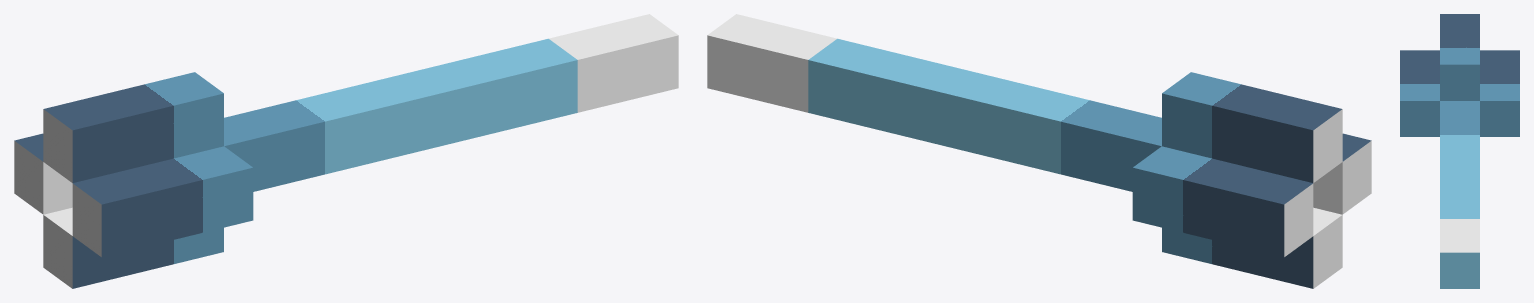
File: Pfeil.fbx
3 views of the same model, side by side, from view 1: azimuth 30°, elevation 25°; view 2: azimuth 150°, elevation 25°; view 3: azimuth 270°, elevation 25° (orthographic). The views are drawn at different scales.
Parts seen in each view (by area): view 1: cube, cube_4, cube_1, cube_2, cube_3, cube_5; view 2: cube, cube_5, cube_1, cube_2, cube_3, cube_4; view 3: cube, cube_1, cube_4, cube_5, cube_2.
Part boxes in pixels (x1,y1,x2,y2): cube: (224, 38, 577, 191); cube_4: (72, 146, 253, 257); cube_1: (43, 72, 223, 183); cube_2: (549, 14, 678, 112); cube_3: (43, 207, 223, 288); cube_5: (14, 133, 72, 214); cube: (808, 38, 1161, 191); cube_5: (1132, 146, 1313, 257); cube_1: (1162, 72, 1342, 183); cube_2: (707, 14, 836, 112); cube_3: (1162, 207, 1342, 288); cube_4: (1313, 133, 1371, 214); cube: (1440, 101, 1479, 218); cube_1: (1440, 14, 1479, 100); cube_4: (1400, 50, 1439, 136); cube_5: (1480, 50, 1519, 136); cube_2: (1440, 219, 1479, 288).
Size of the model in its own units: 75 by 18.75 by 18.75.
1 material, 1 textured.
